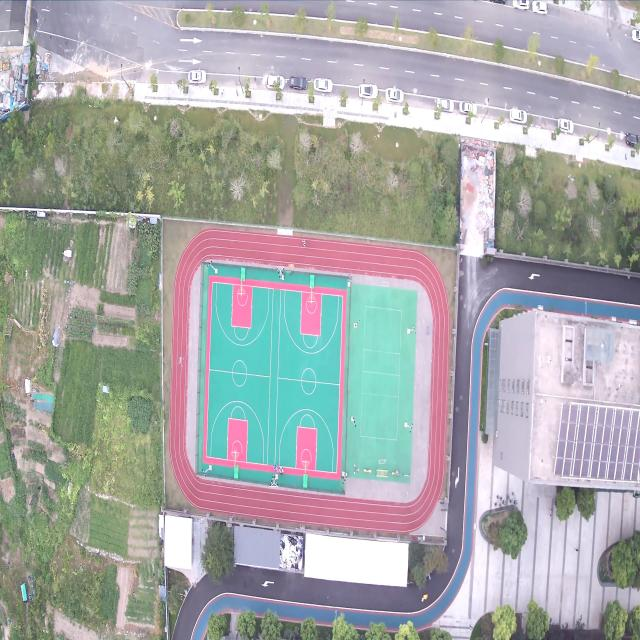UAV: (177, 356, 184, 366)
